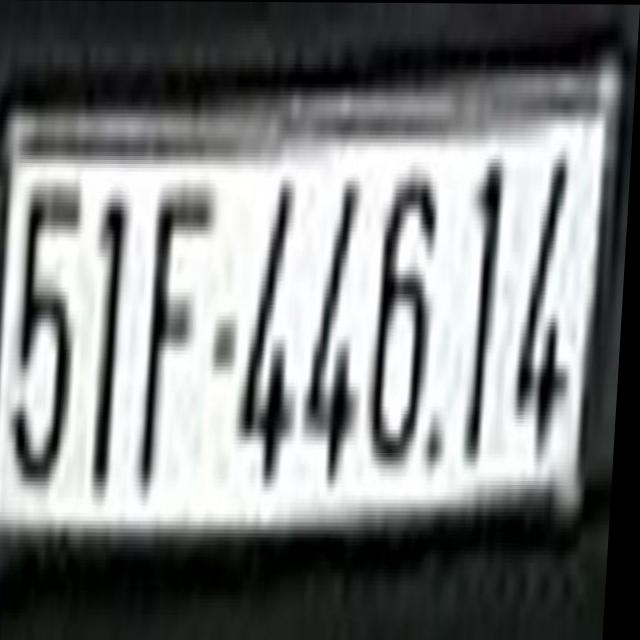1: (458, 158, 516, 484), (88, 163, 133, 501)
4: (512, 147, 591, 481), (236, 161, 312, 495), (303, 157, 376, 471)
5: (16, 179, 88, 485)
6: (372, 146, 445, 472)
F: (137, 179, 220, 498)
